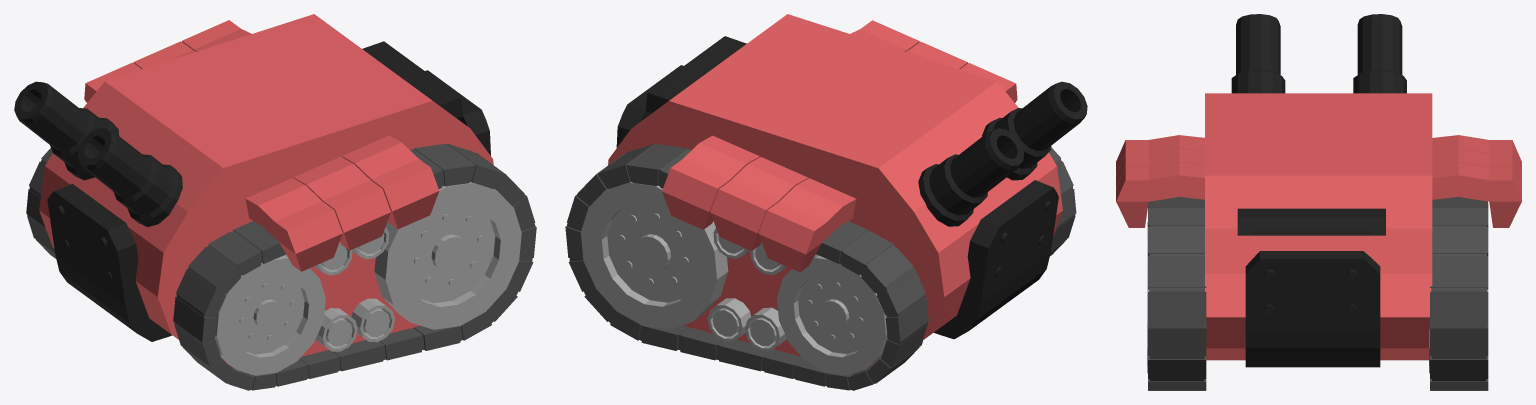
Rendered from TankBody.fbx.
3 renders of one model, left to right at view 1: azimuth 30°, elevation 25°; view 2: azimuth 150°, elevation 25°; view 3: azimuth 270°, elevation 25°, orthographic. The views are drawn at different scales.
Visible parts, largest first — view 1: TankBase; view 2: TankBase; view 3: TankBase.
Part boxes in pixels (box(x1,y1,x2,y2)): TankBase: box(14, 14, 536, 390); TankBase: box(565, 14, 1087, 390); TankBase: box(1116, 14, 1521, 390).
Size of the model in its own units: 377 by 216 by 341.
